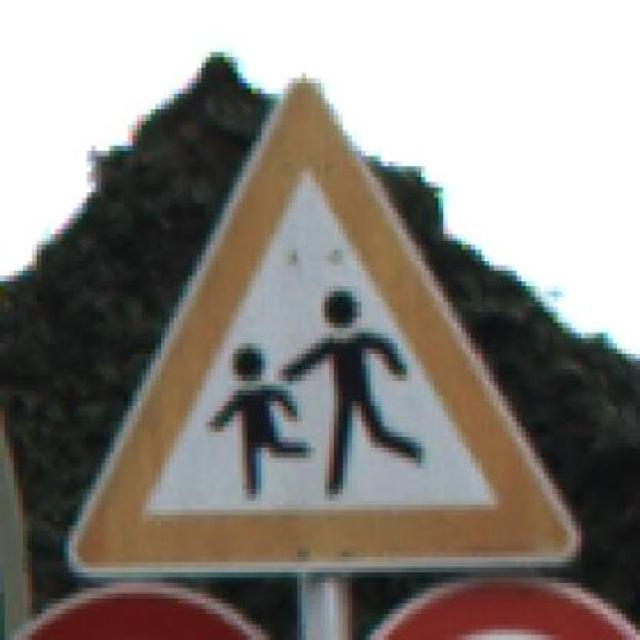Beware of children: (46, 62, 603, 582)
